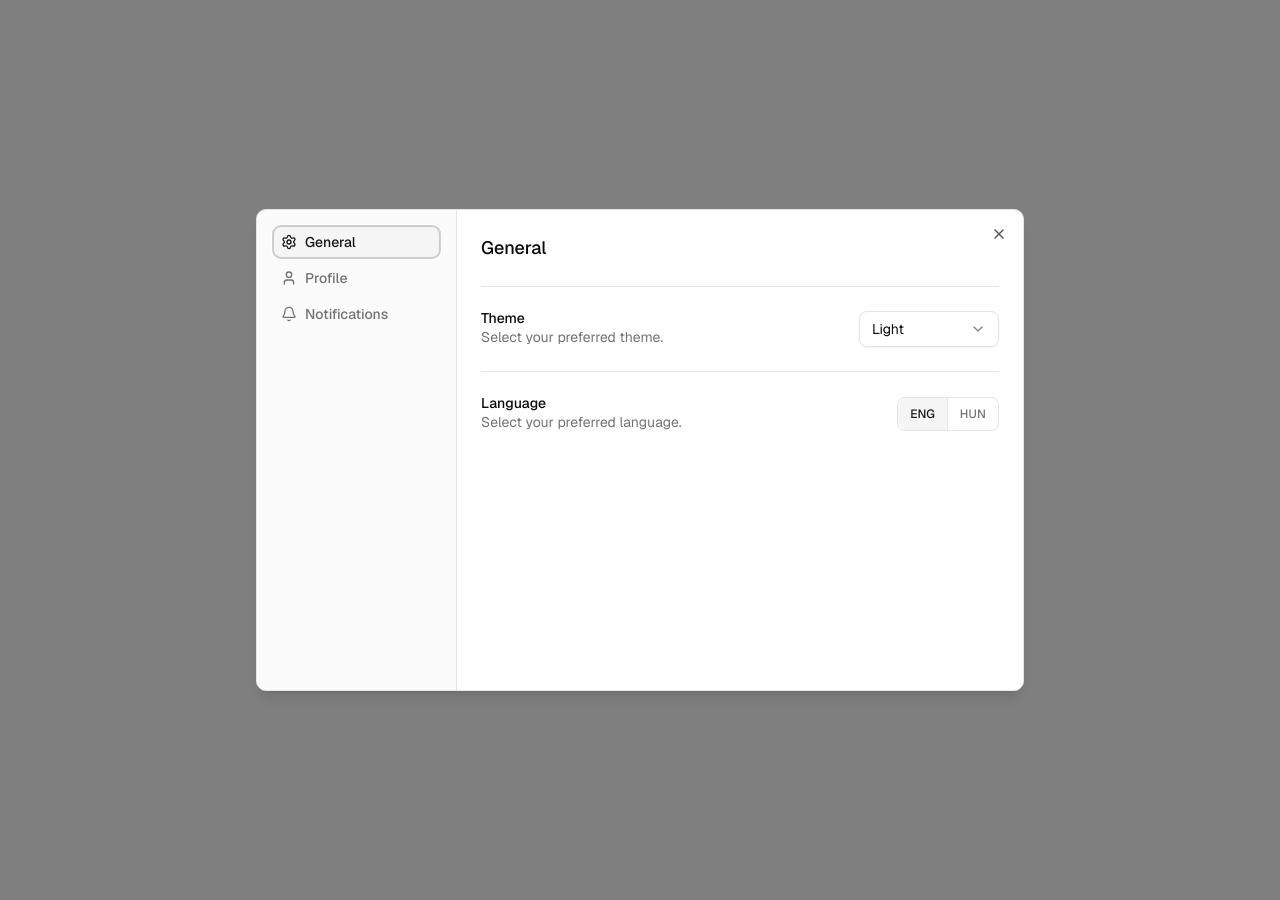
Scenario: SettingsDialog › shows validation error for empty name
The width and height of the screenshot is (1280, 900).
Step 1. Click the button "Profile" → click(356, 278), box x1=273 y1=262 x2=440 y2=294
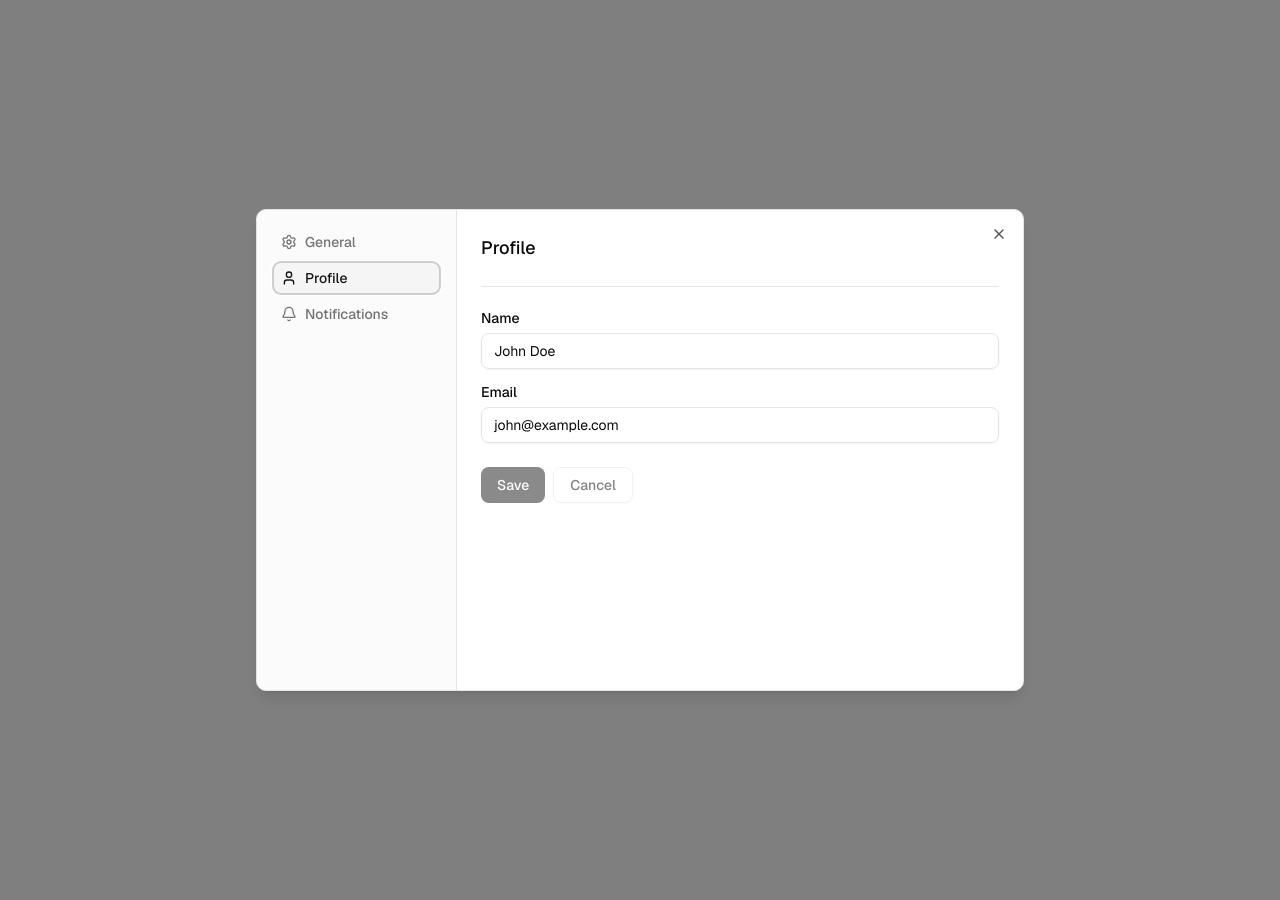
Check: the field showing "John Doe" is shown
Step 2. Clear the field labelled "Name" → (740, 351), box x1=481 y1=333 x2=999 y2=369
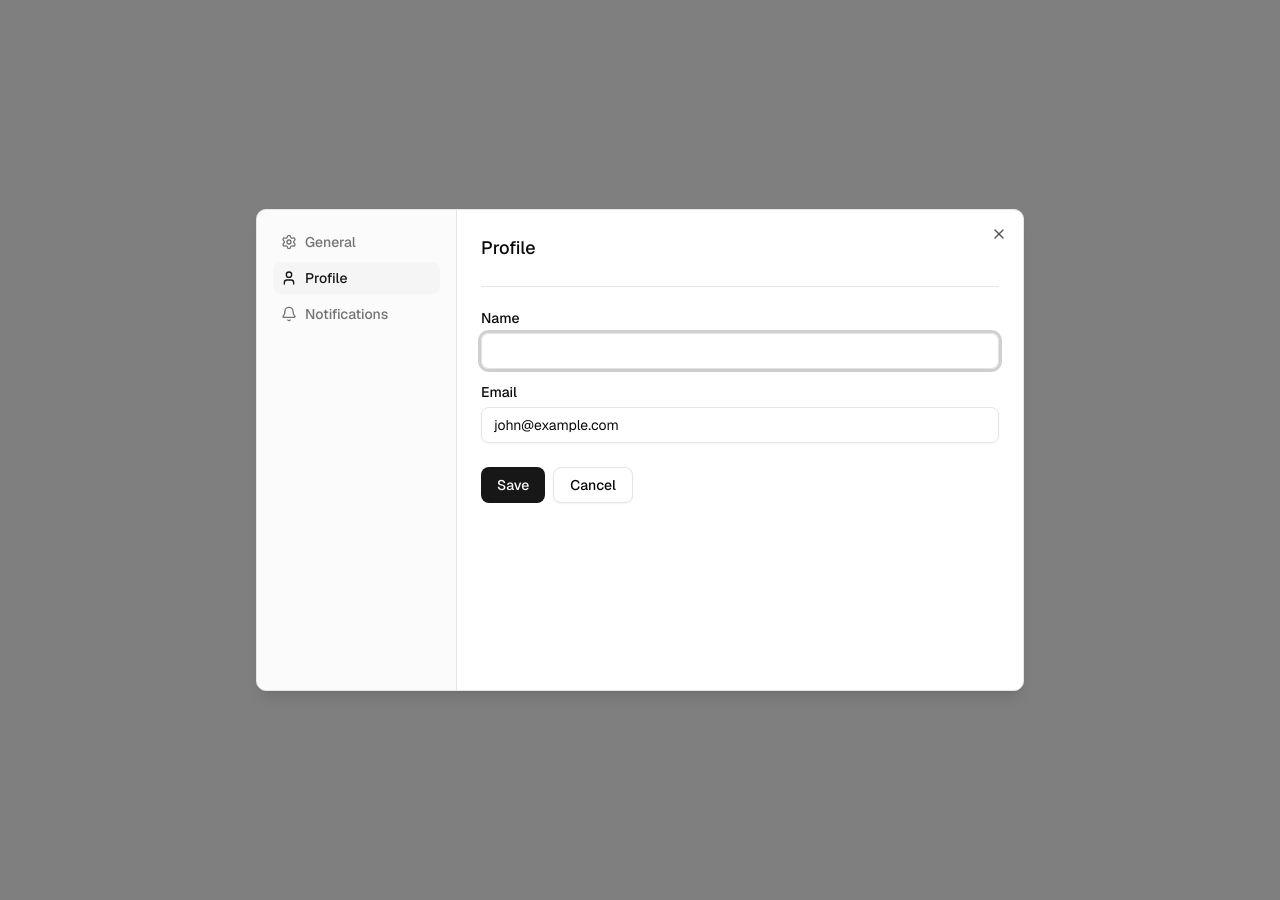
Type something in email to make form dirty
Step 3. Replace the text in the field labelled "Email" with "new@example.com" → (740, 425), box x1=481 y1=407 x2=999 y2=443
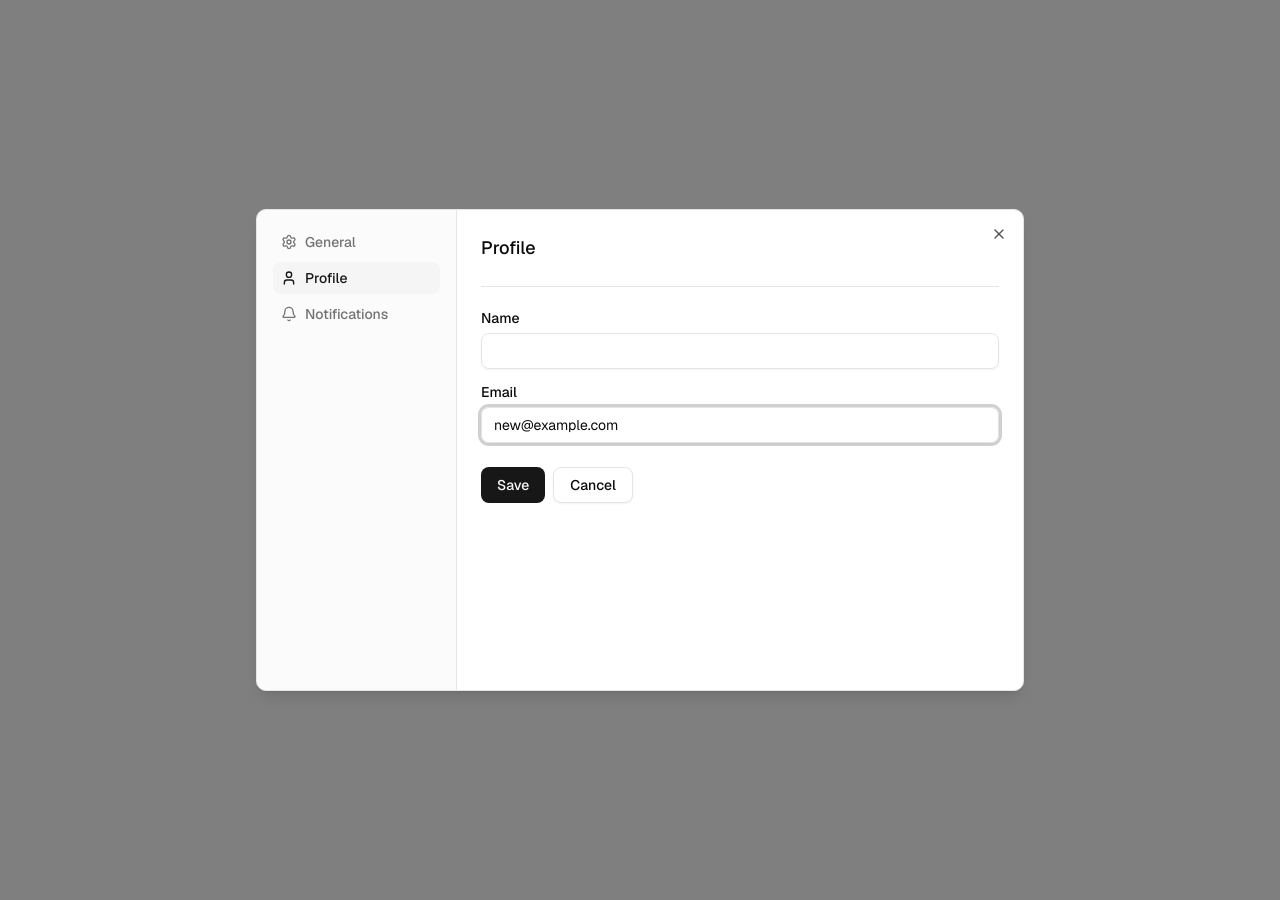
Step 4. Click the button "Save" → click(513, 485), box x1=481 y1=467 x2=545 y2=503
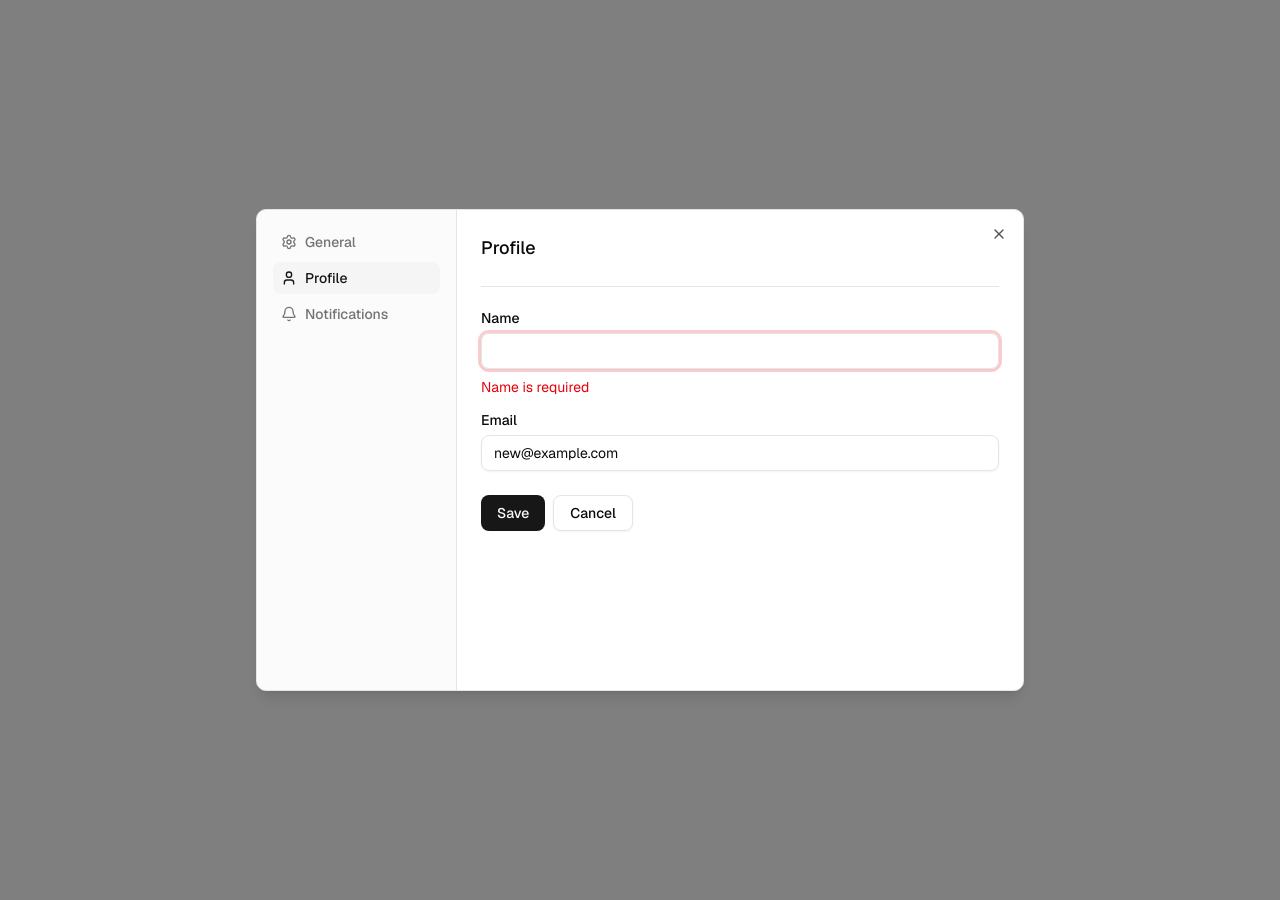
Check: the text "Name is required" is shown, box x1=481 y1=378 x2=589 y2=396
